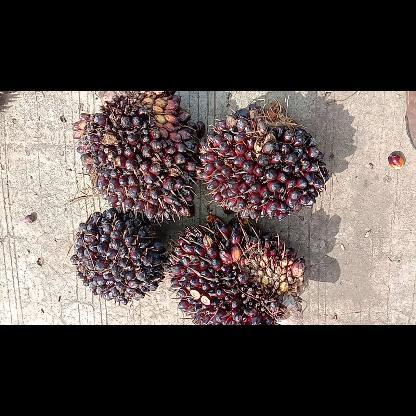TBS mentah: (69, 90, 201, 226), (196, 100, 332, 224), (166, 214, 310, 324), (68, 207, 168, 307)
